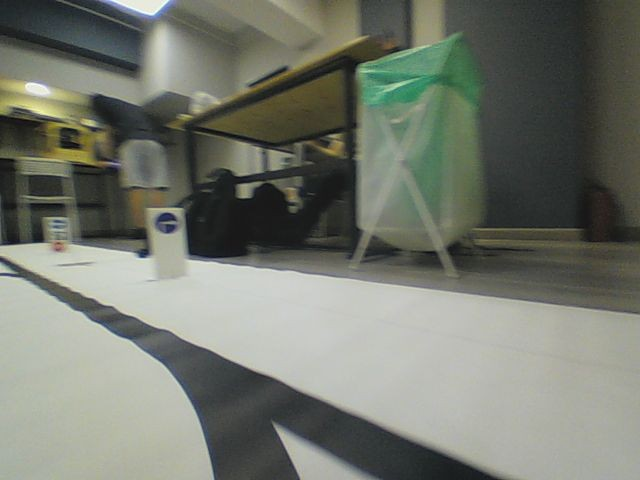Right: (153, 211, 180, 235)
